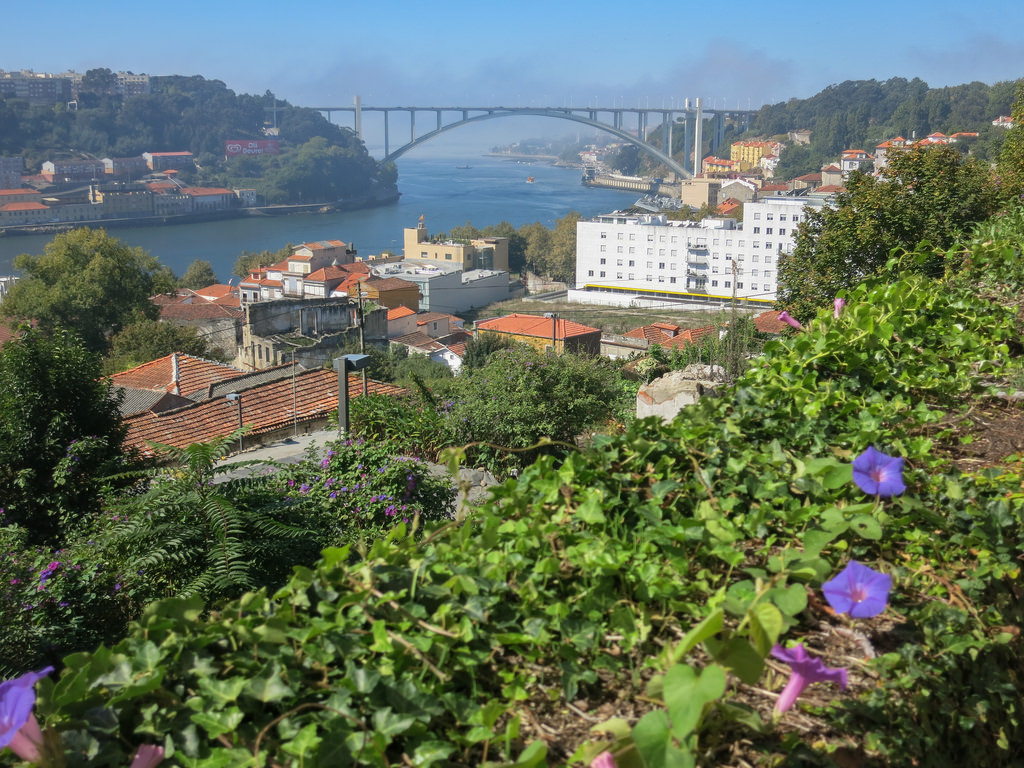arrabida: (303, 94, 737, 183)
